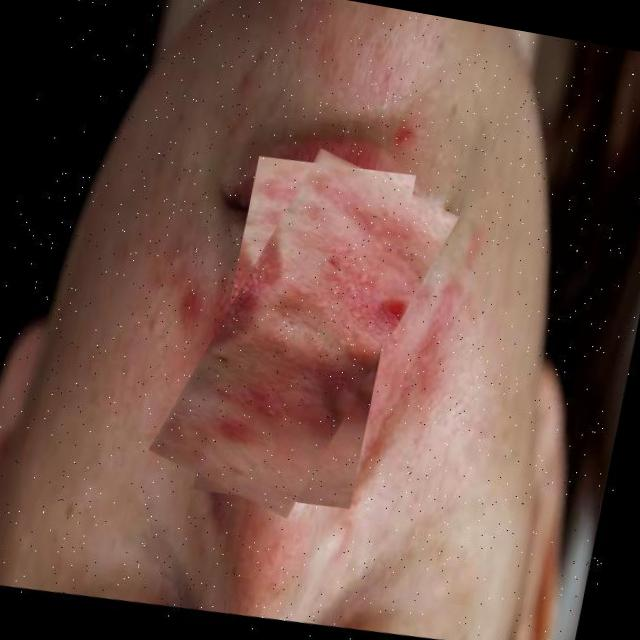redness: (170, 157, 424, 479)
